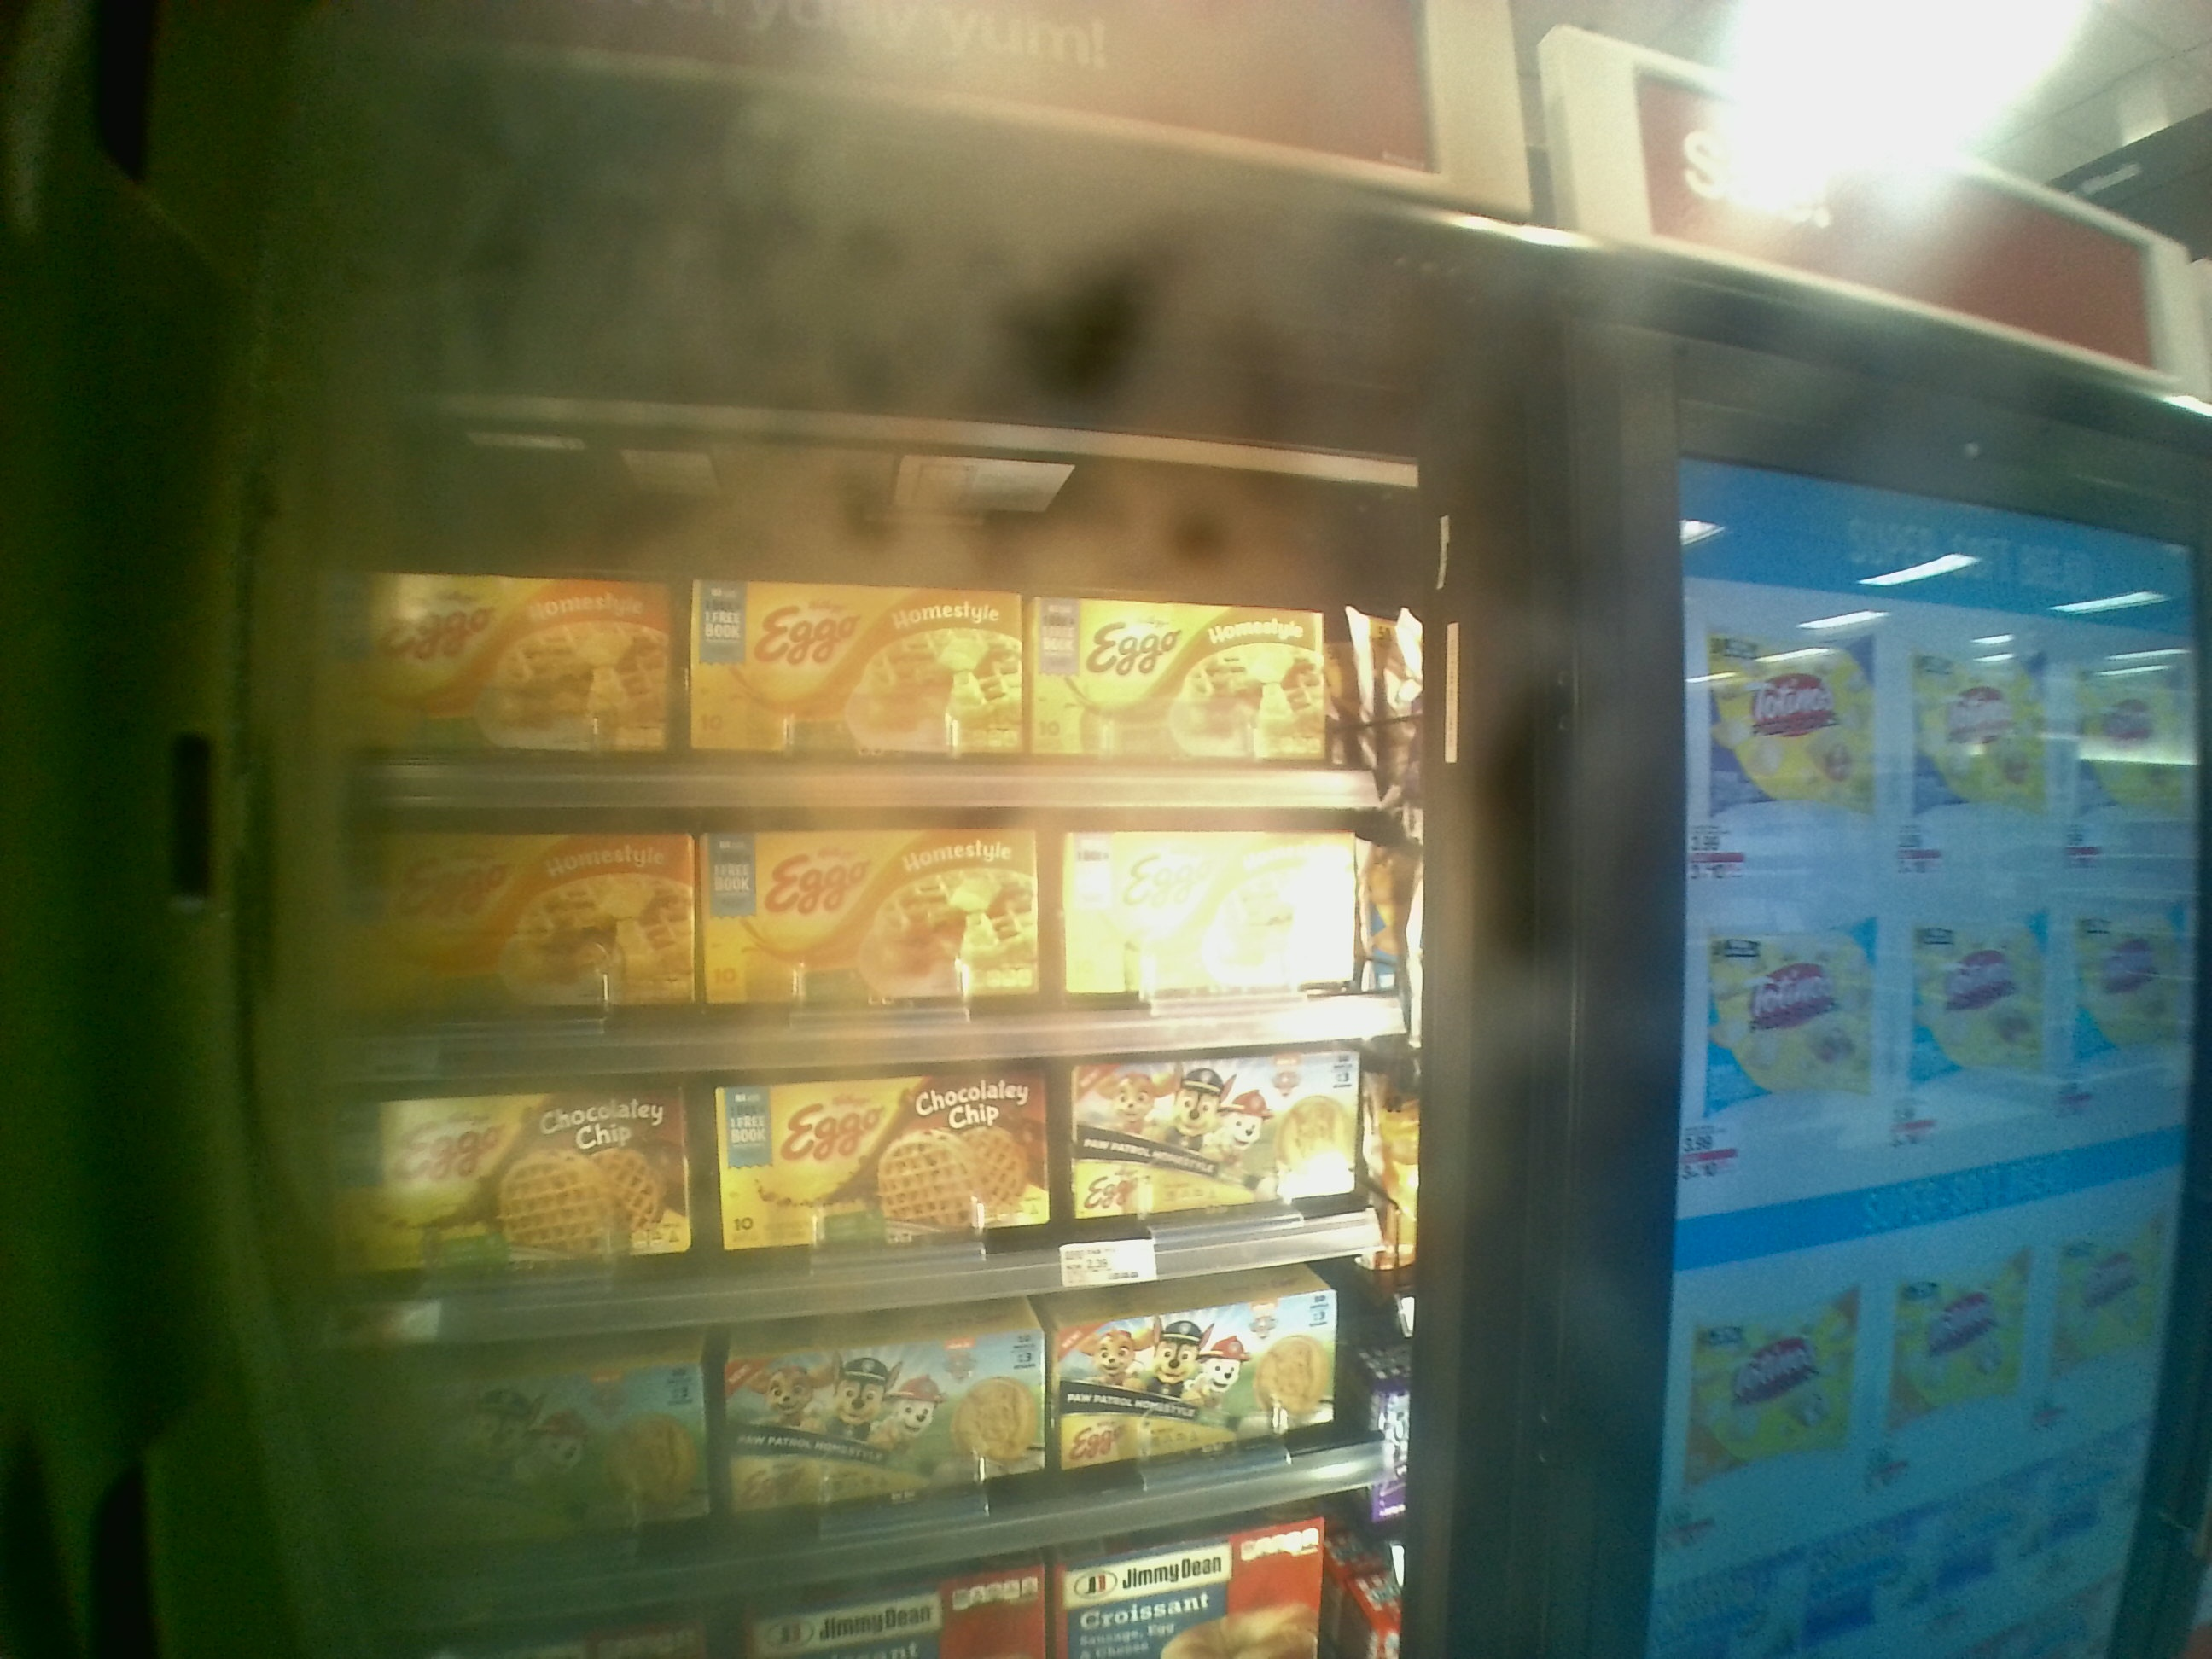shelf: (308, 1040, 1418, 1349), (308, 502, 1390, 817), (307, 814, 1413, 1089)
